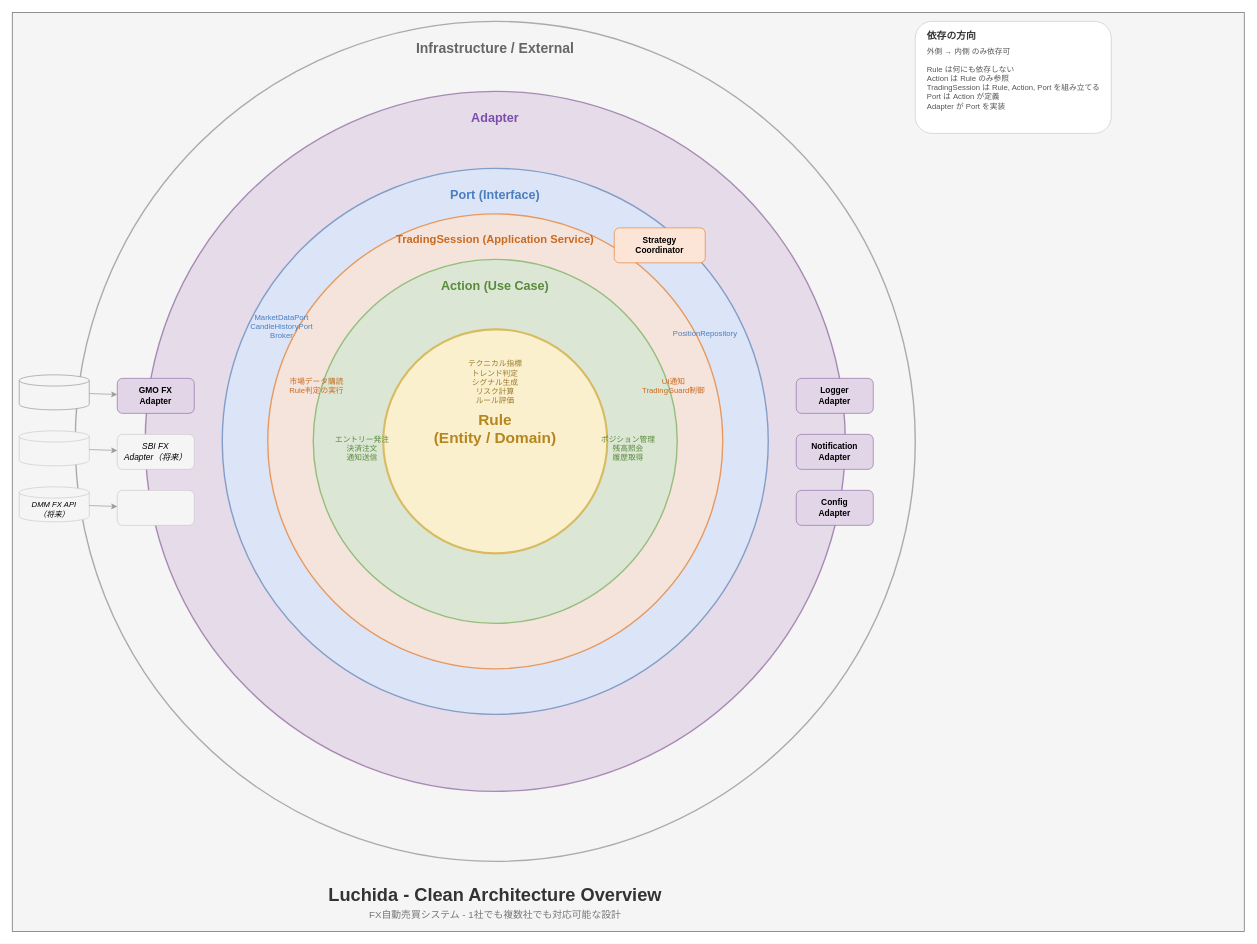
The diagram is 1257 pixels wide and 944 high, and some of its shapes have lost their labels. Each missing label, with the centre of its shape:
DMM FX Adapter（将来）: (155,507)
GMO FX API: (54,392)
SBI FX API （将来）: (54,448)
